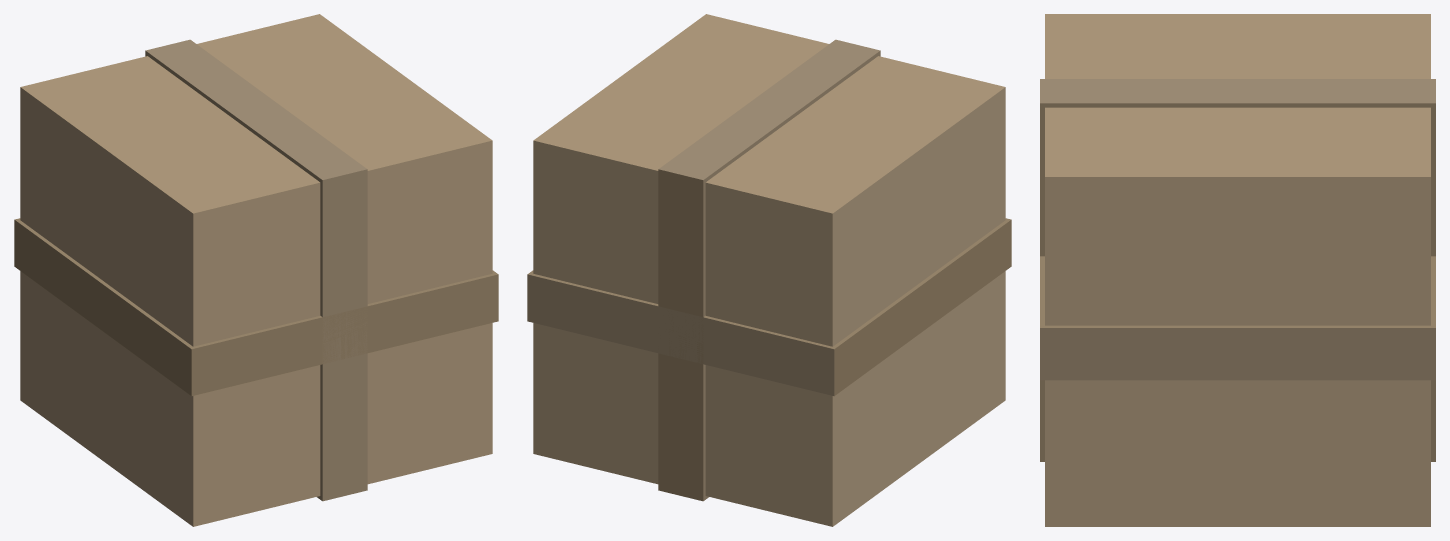
Rendered from crate.glb.
3 renders of one model, left to right at view 1: azimuth 30°, elevation 25°; view 2: azimuth 150°, elevation 25°; view 3: azimuth 270°, elevation 25°, orthographic. The views are drawn at different scales.
Parts seen in each view (by area): view 1: crate2; view 2: crate2; view 3: crate2.
Boxes of the visible parts, <box> form: crate2: <box>14,14,498,526</box>; crate2: <box>527,14,1011,526</box>; crate2: <box>1040,14,1435,526</box>.
Size of the model in its own units: 0.82 by 0.82 by 0.82.
